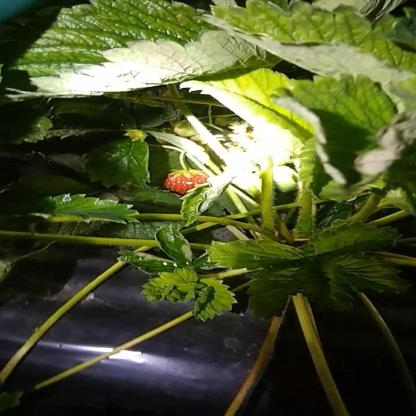ripe: (166, 170, 210, 191)
unripe: (172, 123, 201, 139)
